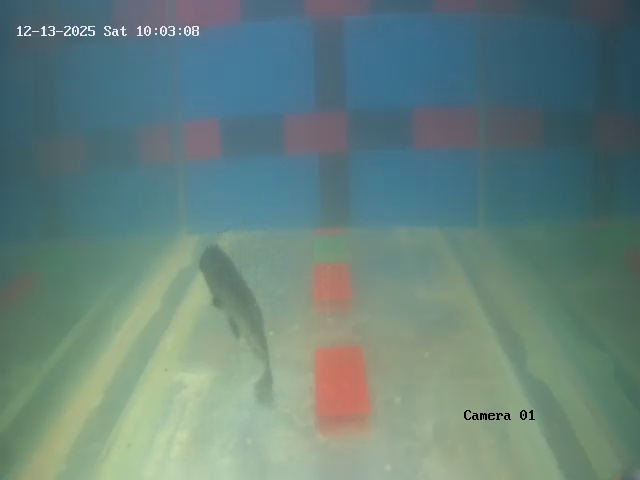fish: (193, 243, 269, 358)
